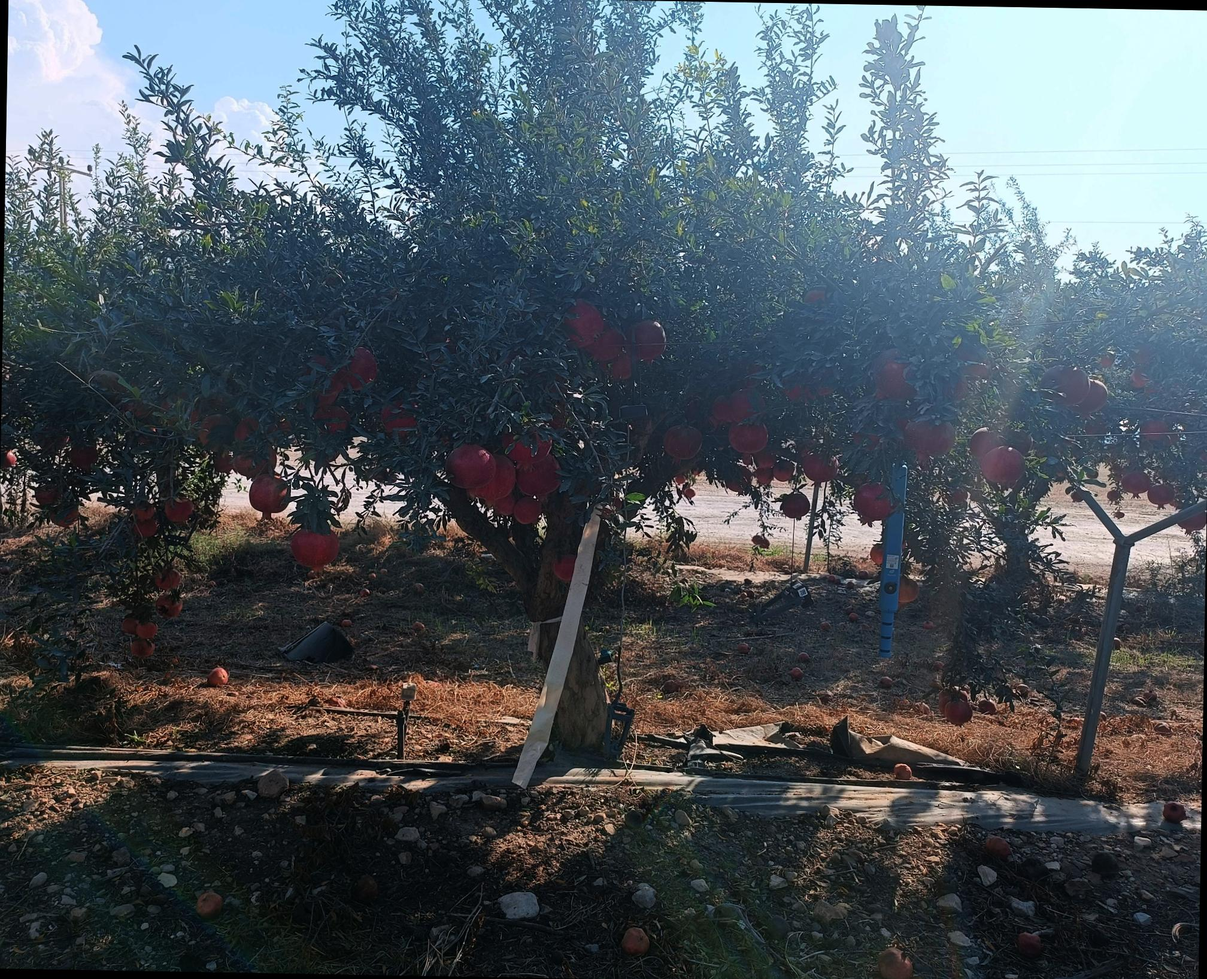pomegranates: (443, 443, 498, 506), (501, 421, 554, 476), (468, 453, 517, 512), (903, 415, 956, 467), (871, 348, 919, 404), (557, 299, 605, 351), (290, 529, 341, 575), (517, 453, 562, 505), (1038, 367, 1091, 407), (981, 445, 1026, 492), (248, 474, 291, 523), (623, 320, 667, 367), (304, 352, 347, 397), (233, 440, 277, 482), (337, 346, 377, 392), (380, 400, 423, 442), (854, 483, 896, 525), (584, 324, 626, 365), (662, 425, 703, 467), (199, 413, 235, 459), (161, 390, 201, 430), (1071, 379, 1108, 422), (84, 370, 128, 404), (803, 450, 840, 490), (728, 422, 768, 458), (729, 388, 766, 423), (313, 405, 351, 435), (34, 421, 69, 453), (600, 353, 639, 381), (969, 426, 1003, 458), (121, 399, 157, 429), (998, 428, 1034, 458), (851, 426, 890, 453), (267, 417, 297, 450), (513, 495, 543, 528), (724, 465, 753, 499), (780, 371, 810, 402), (1121, 470, 1152, 500), (164, 497, 194, 527), (69, 444, 99, 474), (1178, 505, 1207, 536), (782, 492, 810, 523), (305, 441, 341, 464), (810, 373, 839, 401), (944, 700, 973, 728), (235, 417, 265, 444), (553, 553, 578, 585), (155, 594, 184, 620), (739, 359, 765, 388), (34, 484, 63, 509), (50, 507, 80, 531), (1148, 485, 1176, 510), (897, 576, 920, 606), (154, 568, 181, 593), (1140, 419, 1169, 442), (492, 493, 517, 519), (131, 519, 159, 540), (311, 392, 339, 413), (132, 502, 157, 525), (802, 288, 832, 307), (212, 452, 234, 477), (938, 697, 965, 717), (772, 460, 797, 481), (1129, 343, 1154, 364), (750, 452, 776, 472), (131, 638, 155, 659), (940, 687, 969, 704), (711, 395, 729, 421), (136, 620, 159, 640), (603, 497, 623, 518), (754, 466, 774, 486), (1132, 365, 1151, 386), (894, 416, 909, 441), (122, 617, 139, 637), (869, 545, 885, 566), (950, 487, 968, 505), (0, 449, 16, 469), (1100, 352, 1115, 368), (1129, 375, 1145, 390), (1145, 382, 1159, 399), (1107, 490, 1121, 503), (1070, 490, 1084, 503), (741, 452, 752, 466), (1085, 469, 1099, 479), (684, 488, 695, 500), (675, 475, 686, 486), (1110, 463, 1121, 474), (760, 538, 770, 549), (751, 534, 761, 545), (692, 467, 702, 477), (1114, 510, 1124, 519), (1173, 501, 1183, 509), (1175, 486, 1185, 493), (1176, 494, 1185, 501), (902, 541, 906, 552)
